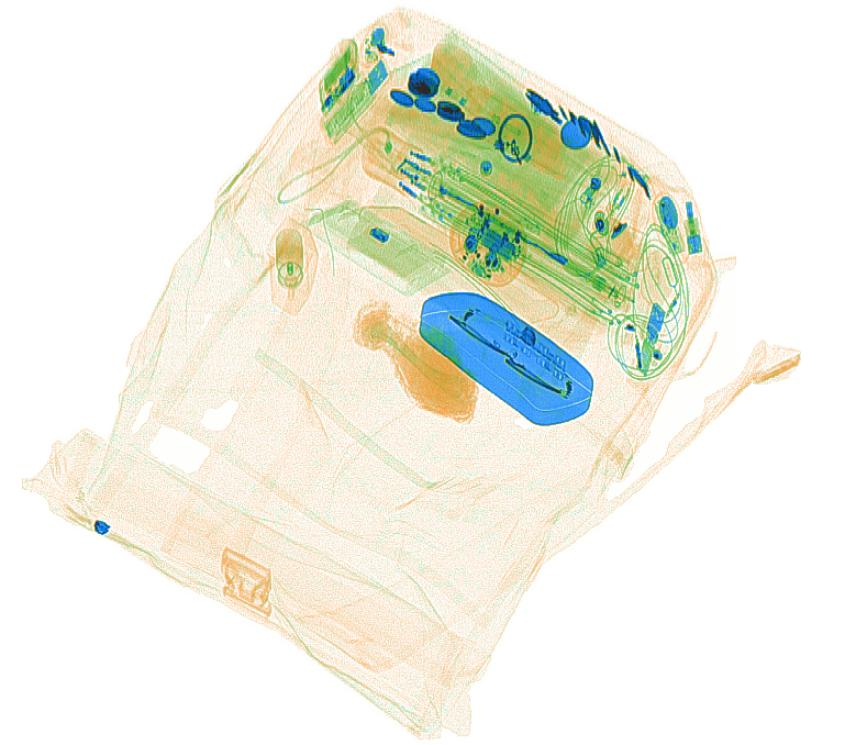USBFlashDisk: (318, 60, 389, 143), (635, 300, 668, 377), (680, 199, 706, 255)
pressure: (273, 223, 306, 298)
